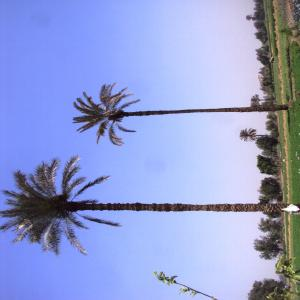palm tree: (0, 154, 123, 258)
